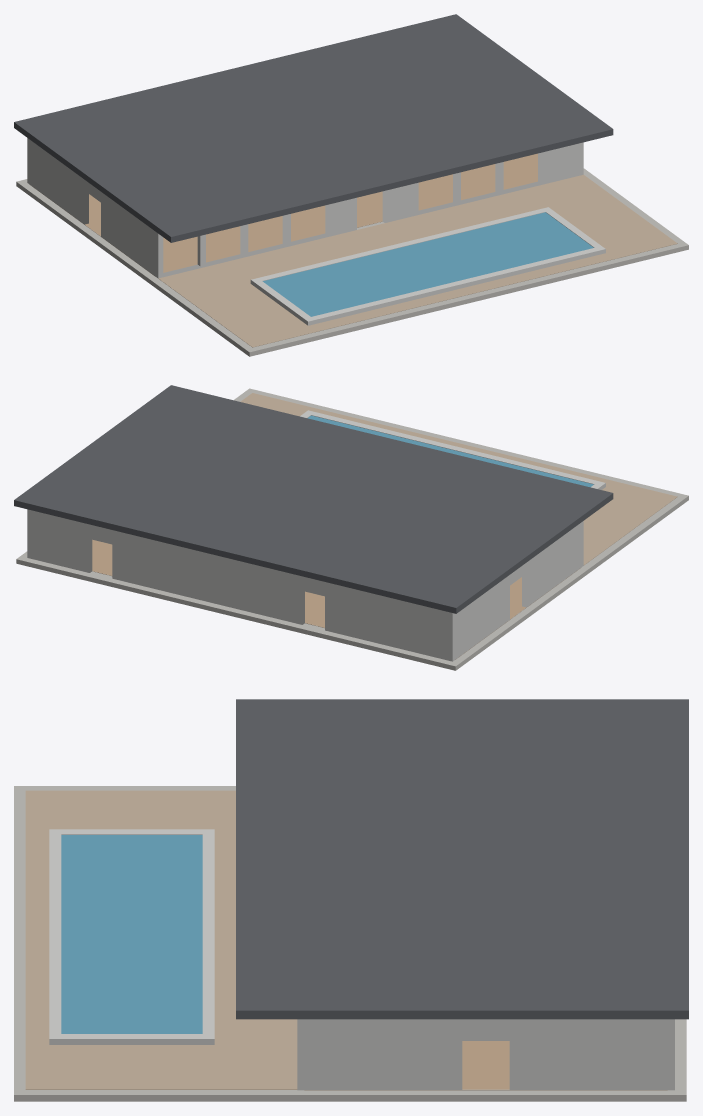
The model's file is condo-club.gaps-v1.lod0.glb.
The picture shows the model from 3 angles, top to bottom: view 1: azimuth 30°, elevation 25°; view 2: azimuth 150°, elevation 25°; view 3: azimuth 270°, elevation 25°; orthographic projection. The views are drawn at different scales.
Parts seen in each view (by area): view 1: condo-club; view 2: condo-club; view 3: condo-club.
Boxes of the visible parts, left/top/right/bottom form: condo-club: left=14, top=14, right=688, bottom=356; condo-club: left=14, top=385, right=688, bottom=670; condo-club: left=14, top=699, right=688, bottom=1101.
Size of the model in its own units: 31.2 by 4.3 by 28.6.
